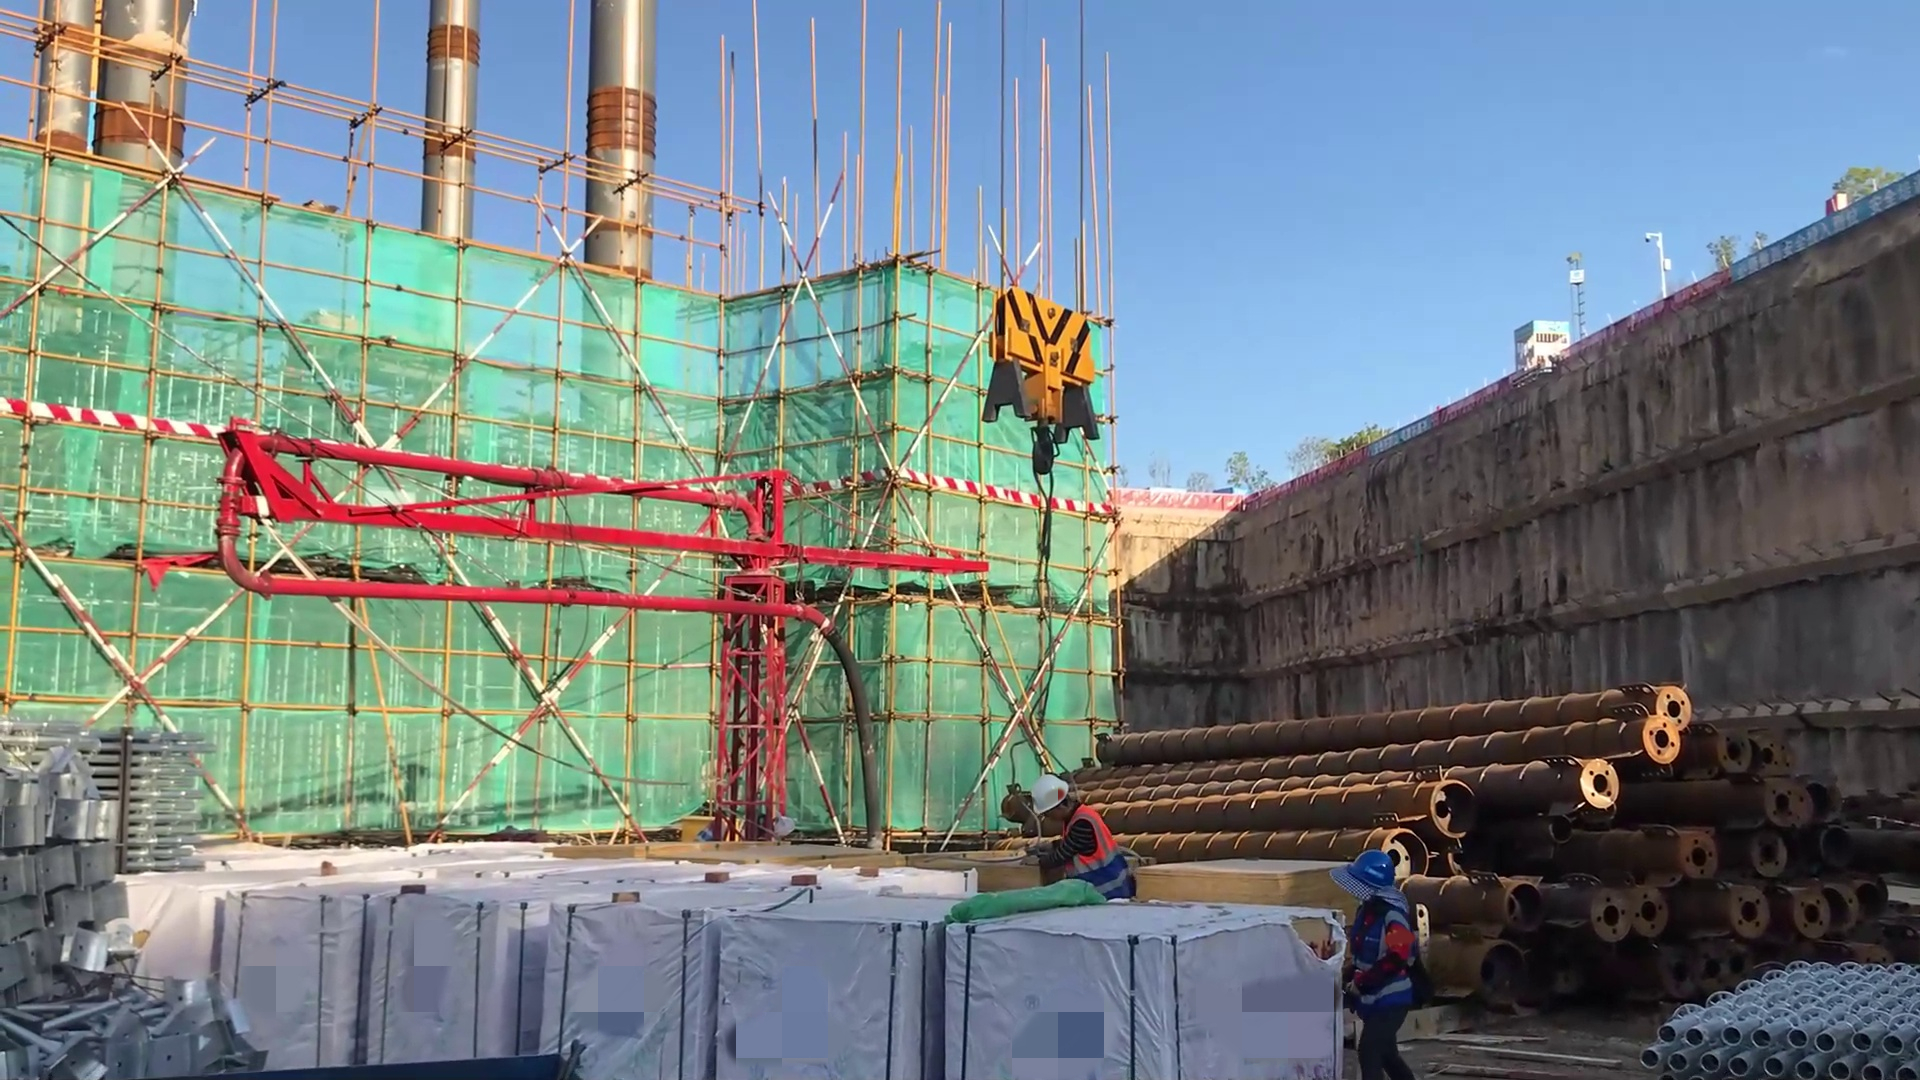board: (1140, 862, 1338, 947)
ebox: (673, 801, 751, 855)
helmet: (1337, 845, 1402, 903), (1024, 775, 1080, 821)
hook: (976, 266, 1134, 566)
person: (1317, 838, 1441, 1080), (1007, 769, 1149, 926)
scaffold: (1637, 953, 1919, 1080), (90, 707, 205, 874)
slogan: (1727, 163, 1920, 294), (1350, 406, 1447, 467)
vest: (1342, 898, 1422, 1022), (1046, 807, 1140, 897)
